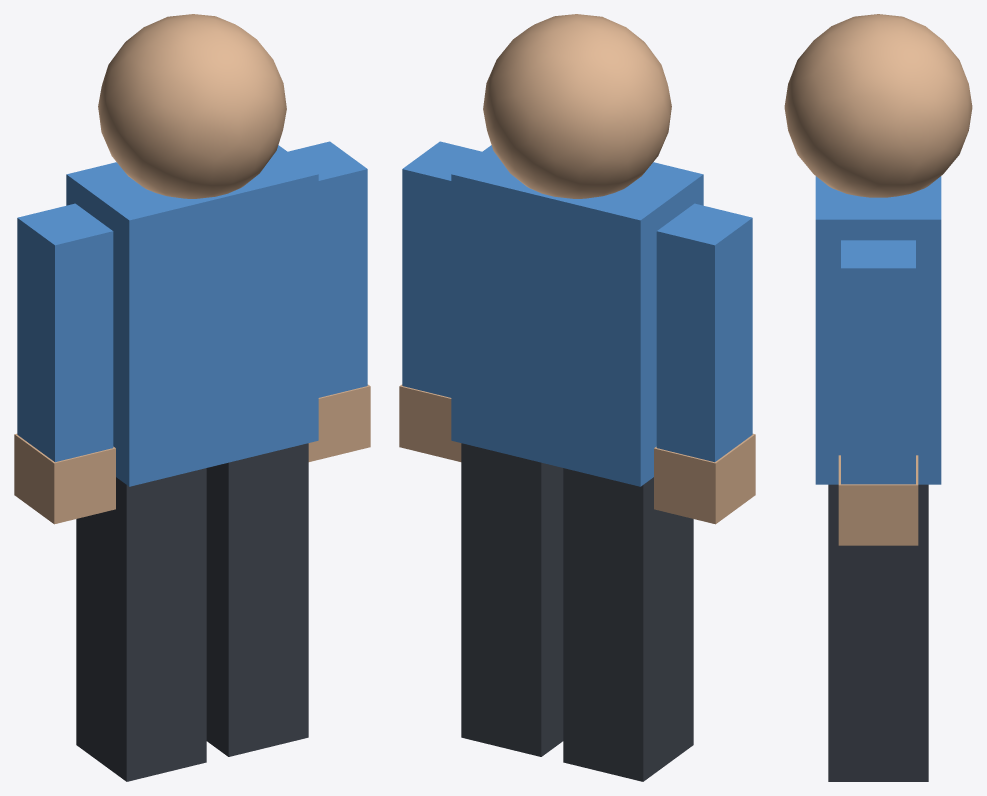
File: simple_player_model.glb
3 views of the same model, side by side, from view 1: azimuth 30°, elevation 25°; view 2: azimuth 150°, elevation 25°; view 3: azimuth 270°, elevation 25° (orthographic).
Parts seen in each view (by area): view 1: Torso, LeftLeg, RightLeg, HeadVisual, LeftArm, RightArm, LeftHand, RightHand; view 2: Torso, LeftLeg, RightLeg, HeadVisual, LeftArm, RightArm, LeftHand, RightHand; view 3: HeadVisual, RightLeg, Torso, RightArm, RightHand.
Boxes of the visible parts, x1=… form: Torso: x1=66, y1=145, x2=318, y2=486; LeftLeg: x1=76, y1=468, x2=206, y2=781; RightLeg: x1=206, y1=443, x2=308, y2=756; HeadVisual: x1=98, y1=14, x2=286, y2=198; LeftArm: x1=17, y1=203, x2=113, y2=462; RightArm: x1=288, y1=141, x2=367, y2=397; LeftHand: x1=14, y1=433, x2=115, y2=524; RightHand: x1=308, y1=384, x2=370, y2=461; Torso: x1=451, y1=145, x2=703, y2=486; LeftLeg: x1=563, y1=468, x2=693, y2=781; RightLeg: x1=461, y1=443, x2=563, y2=756; HeadVisual: x1=483, y1=14, x2=671, y2=198; LeftArm: x1=656, y1=203, x2=752, y2=462; RightArm: x1=402, y1=141, x2=481, y2=397; LeftHand: x1=654, y1=433, x2=755, y2=524; RightHand: x1=399, y1=384, x2=461, y2=461; HeadVisual: x1=784, y1=14, x2=972, y2=197; RightLeg: x1=828, y1=484, x2=928, y2=781; Torso: x1=815, y1=176, x2=941, y2=484; RightArm: x1=841, y1=240, x2=915, y2=484; RightHand: x1=838, y1=455, x2=918, y2=545.
Bounding box in the file's own units: 0.87 × 1.89 × 0.45.
